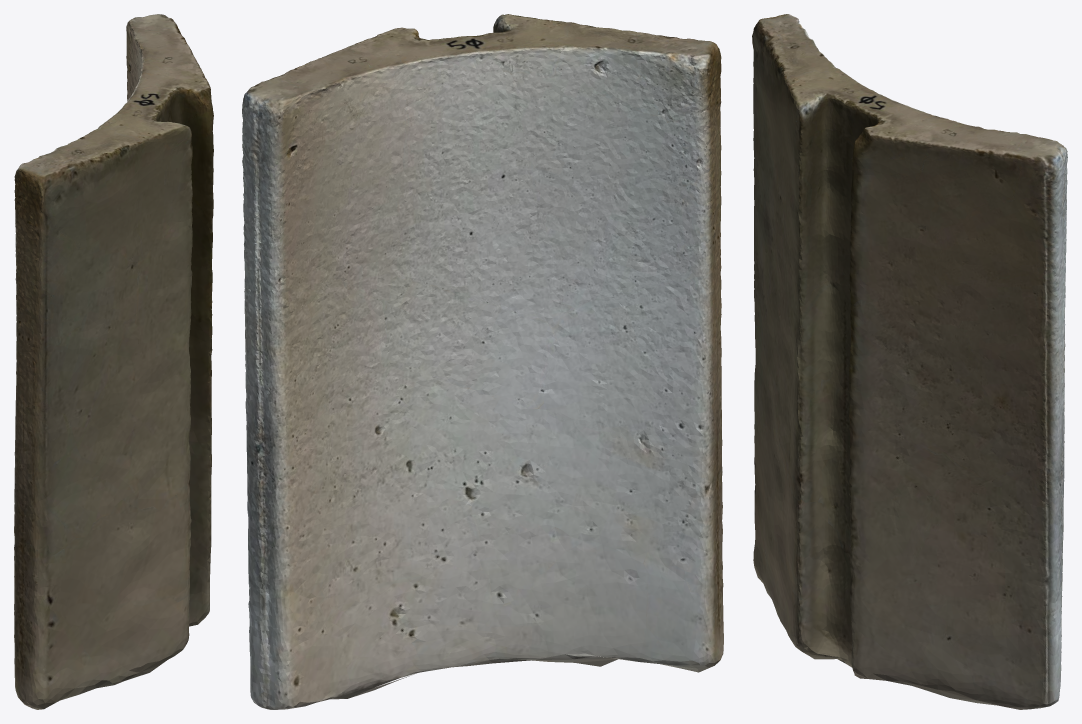
The model's file is Pixel 50.glb.
3 views of the same model, side by side, from view 1: azimuth 30°, elevation 25°; view 2: azimuth 150°, elevation 25°; view 3: azimuth 270°, elevation 25° (orthographic). The views are drawn at different scales.
Size of the model in its own units: 0.143 by 0.2664 by 0.1332.
Materials: 1 (1 with a texture image).
